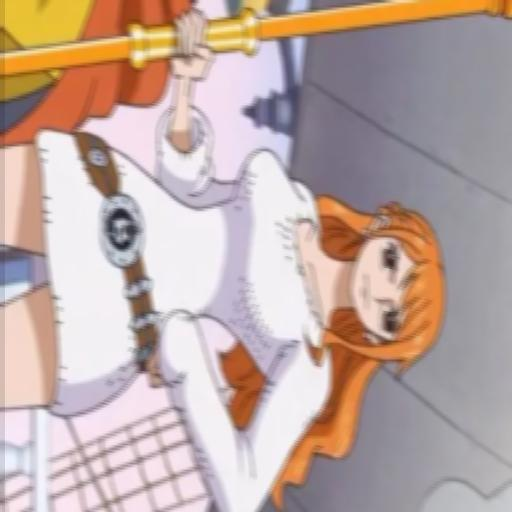Nami: (0, 4, 449, 512)
